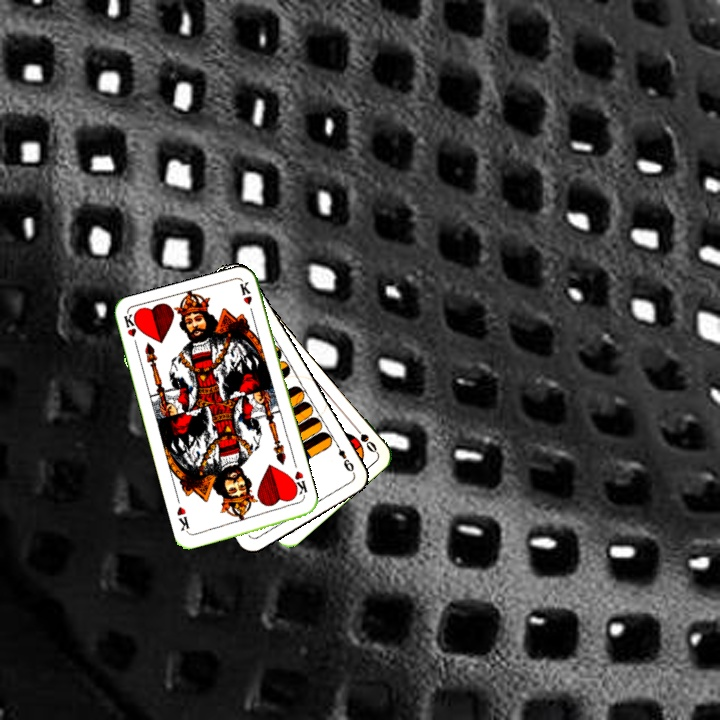E9: (331, 439, 357, 474)
HK: (119, 310, 142, 352), (287, 467, 310, 502)
SO: (349, 421, 380, 455)
